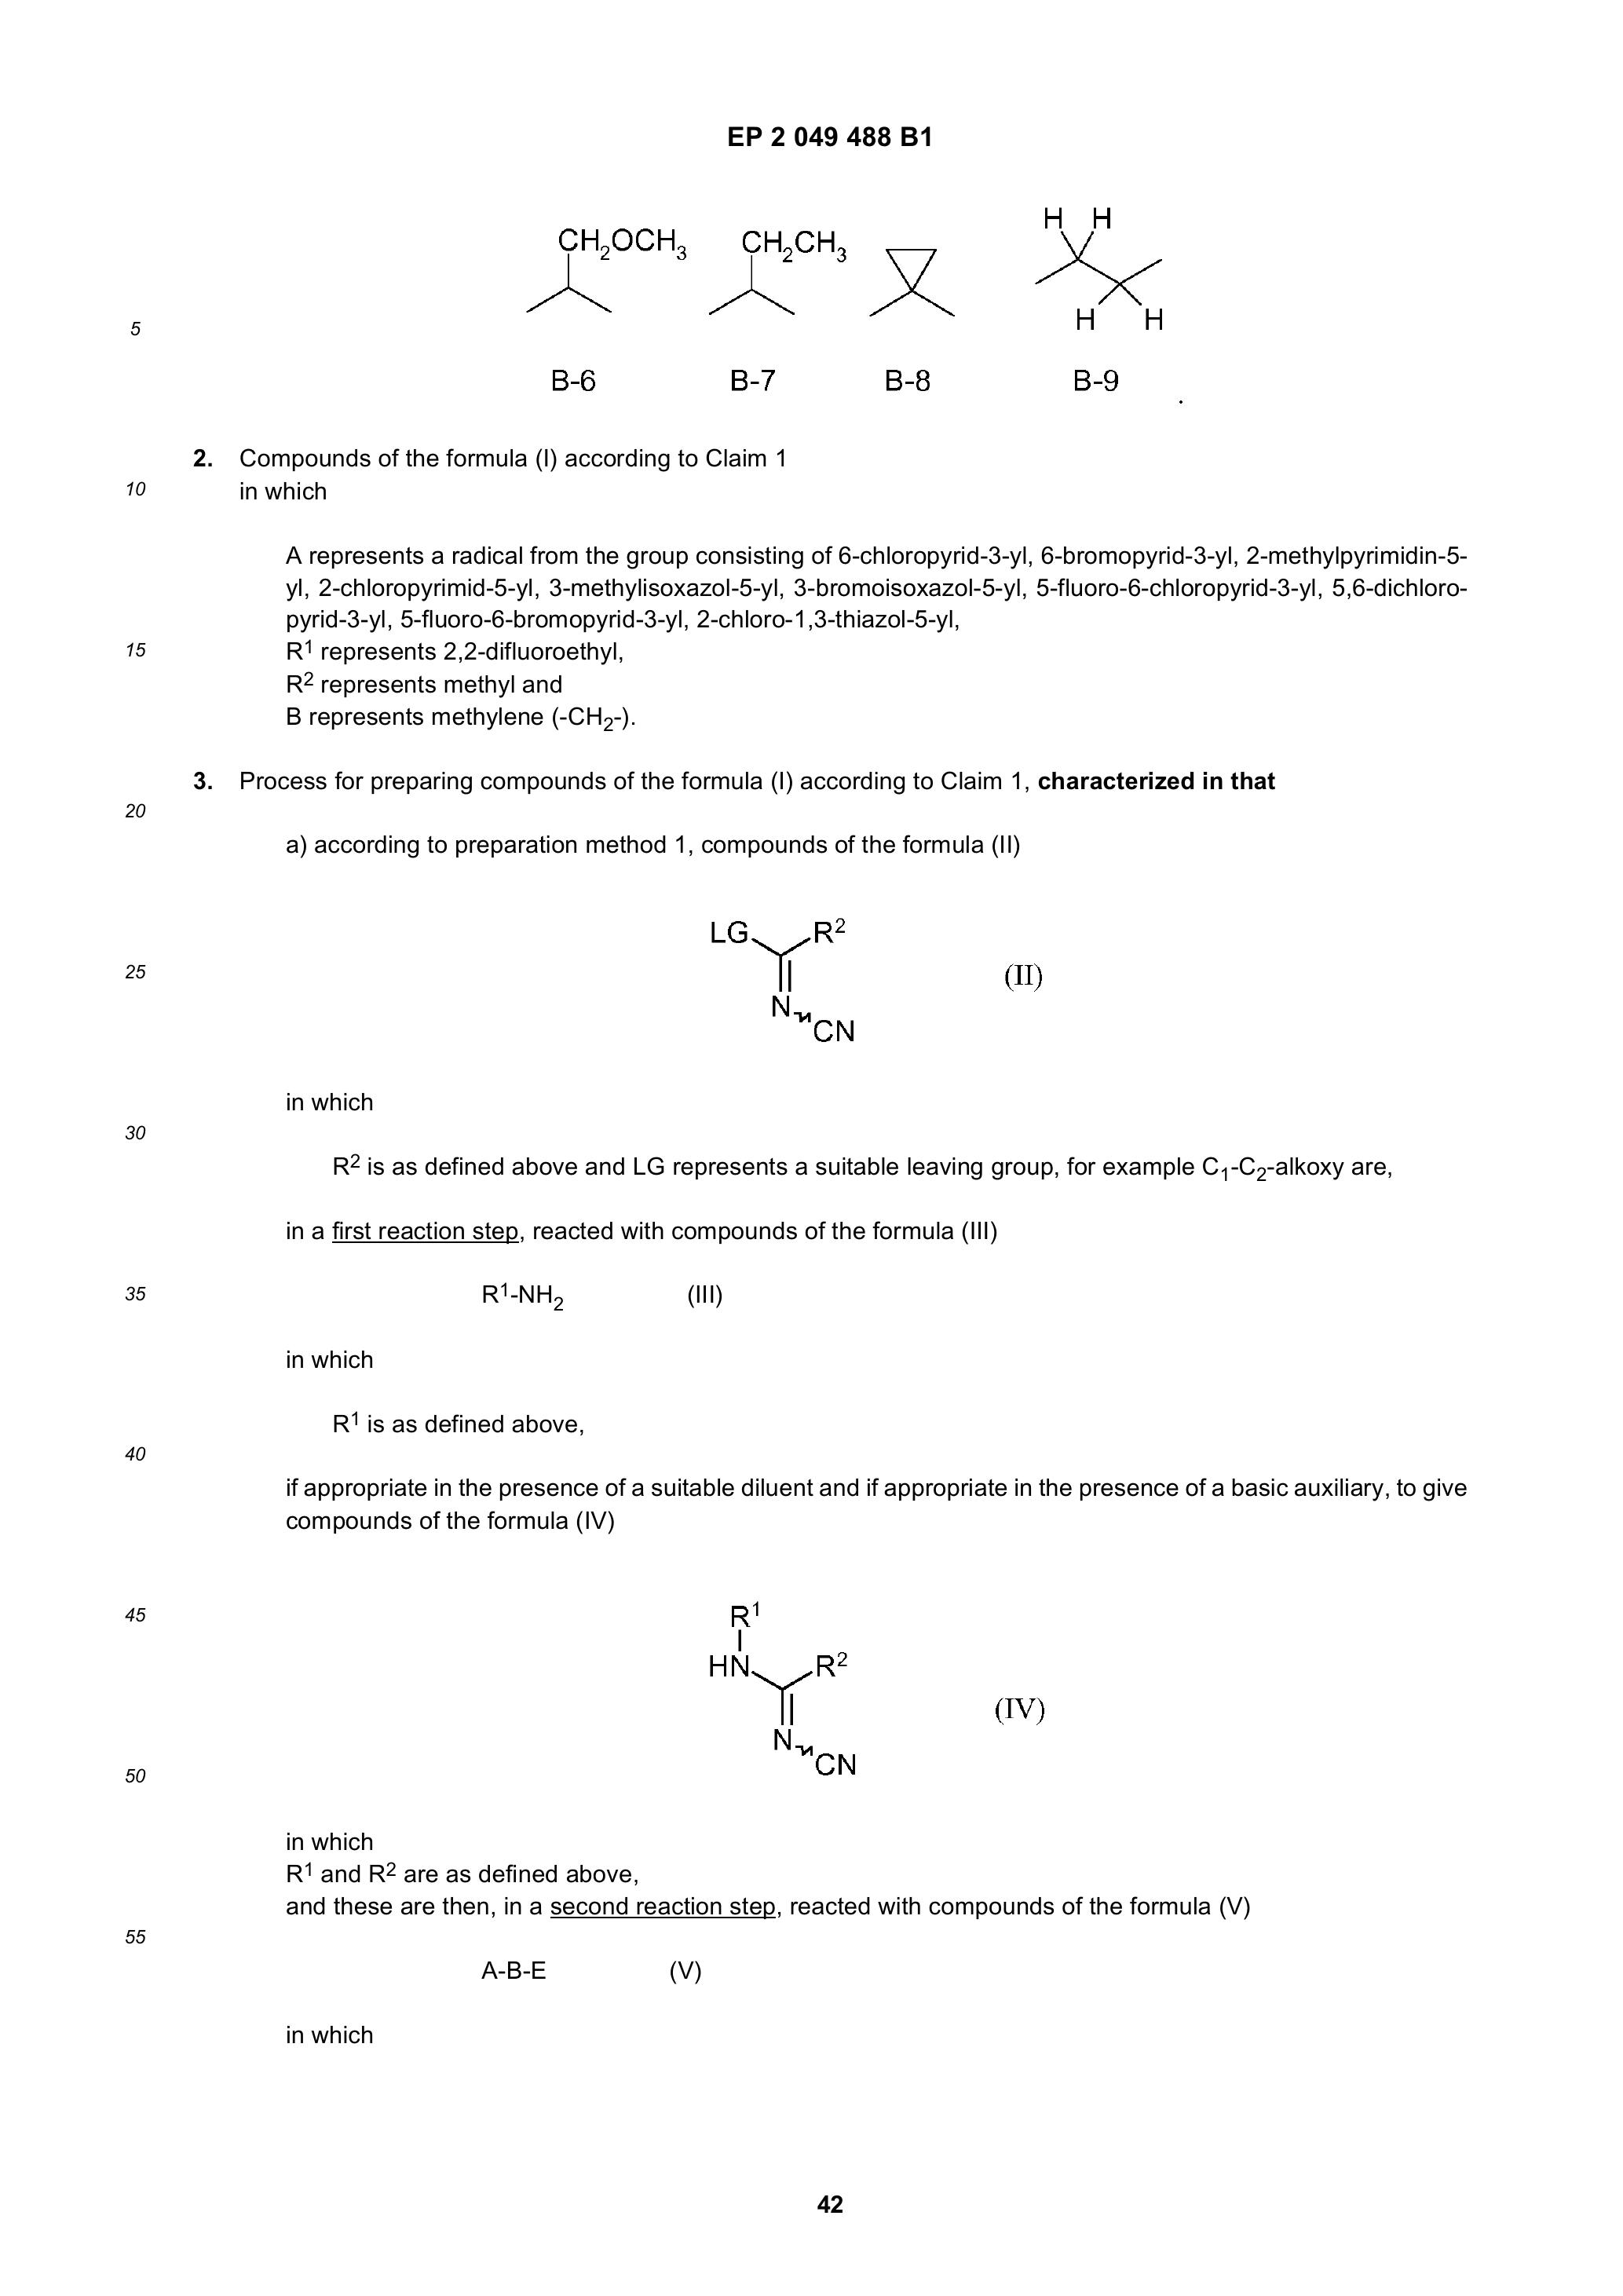markush-structures: (669, 1586, 894, 1822), (689, 901, 912, 1070)
substitutes: (989, 188, 1198, 343), (502, 207, 697, 325), (710, 220, 843, 330), (864, 223, 961, 320)
